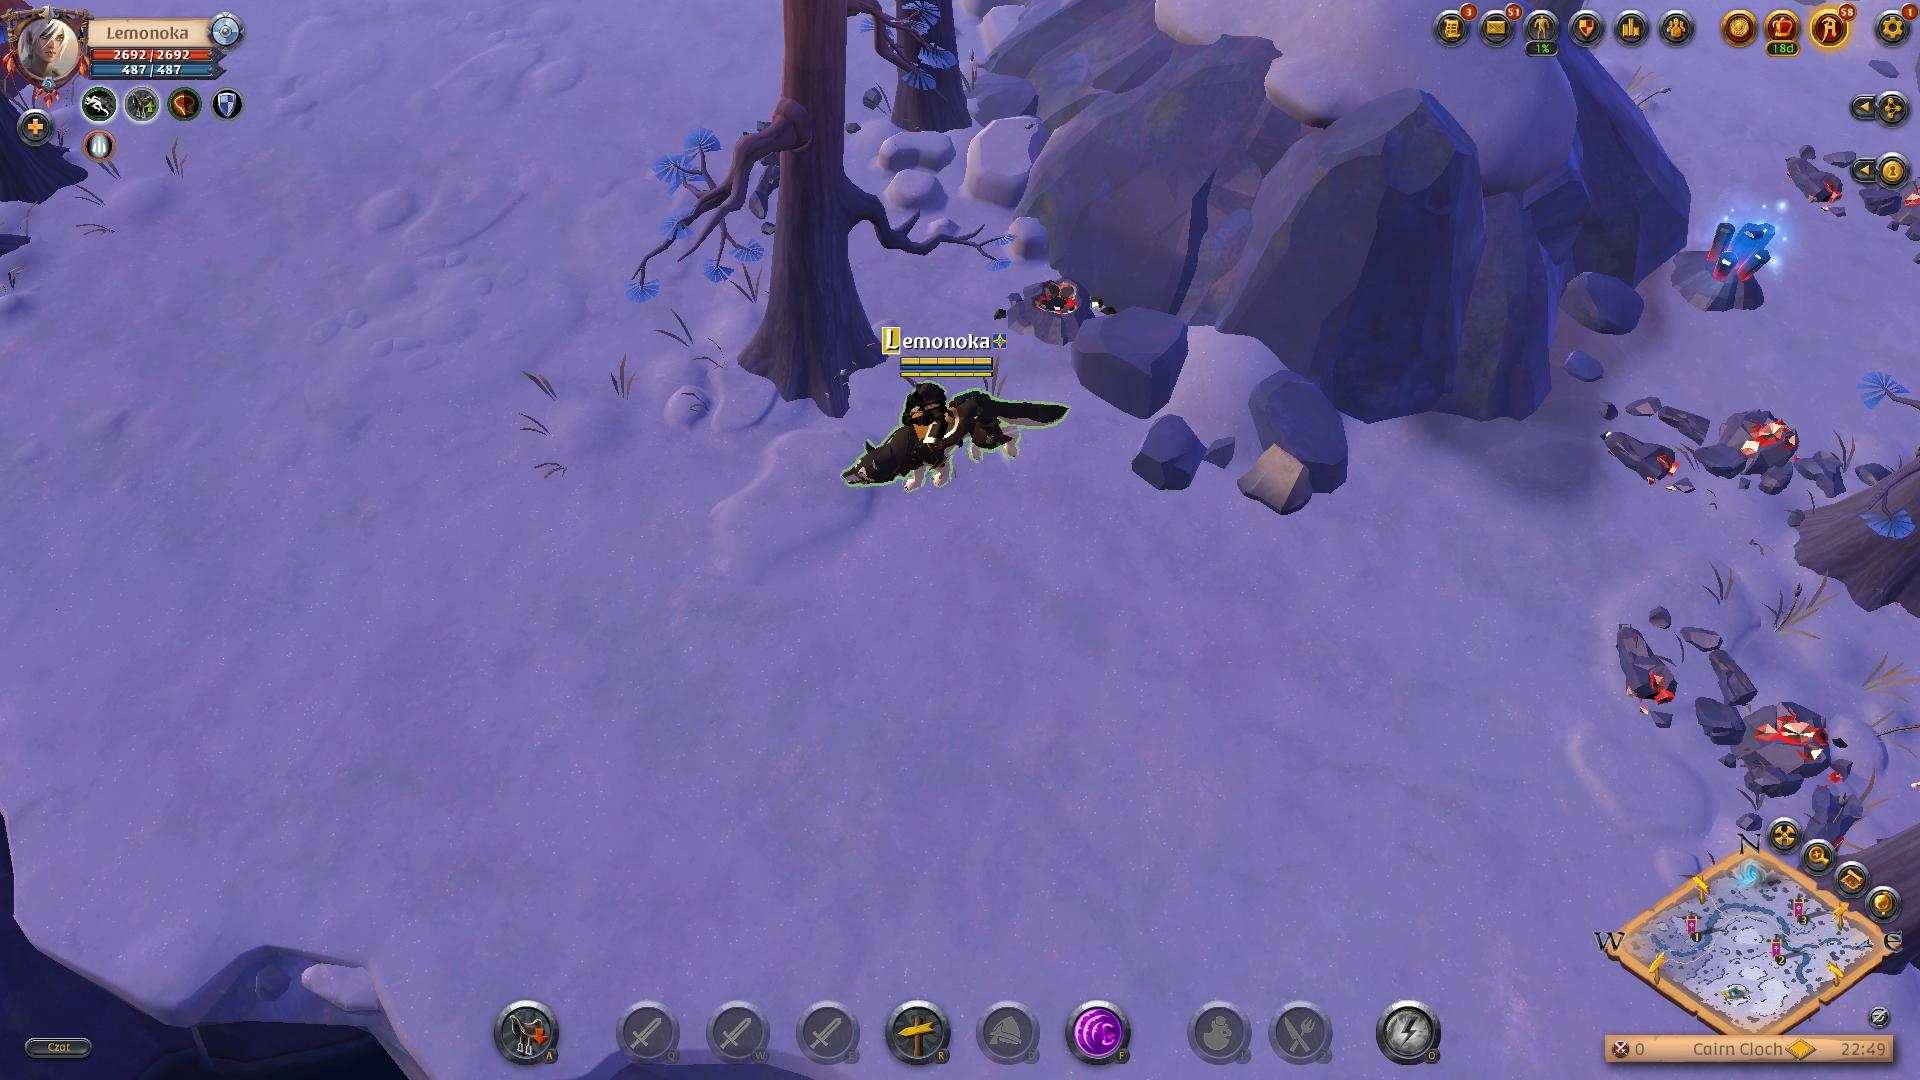ore tier 5: (1675, 204, 1779, 318)
rock tier 1: (1237, 443, 1315, 517)
